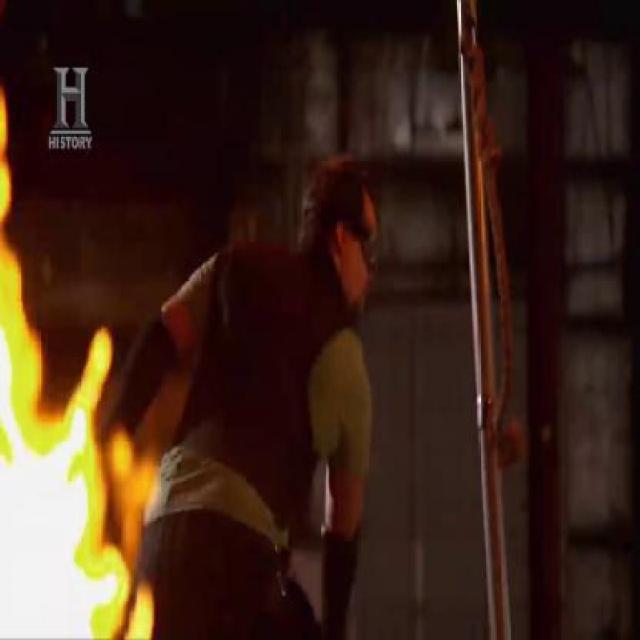Fire: (0, 75, 151, 631)
